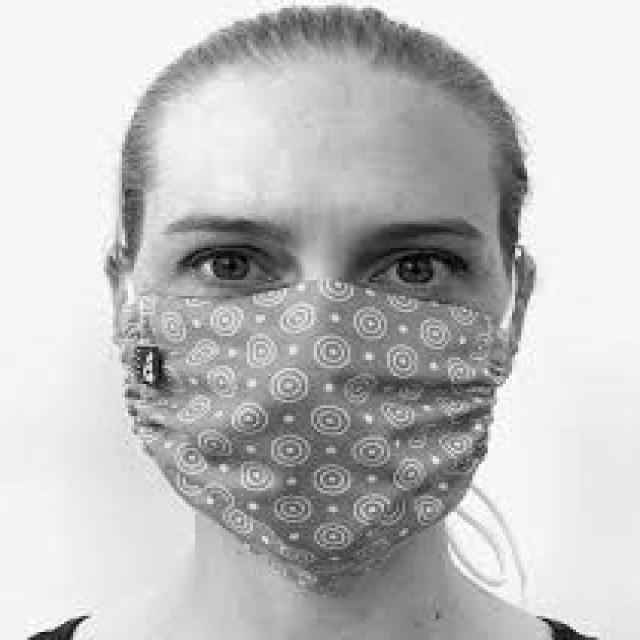fake: (90, 281, 542, 591)
real: (137, 74, 508, 604)
